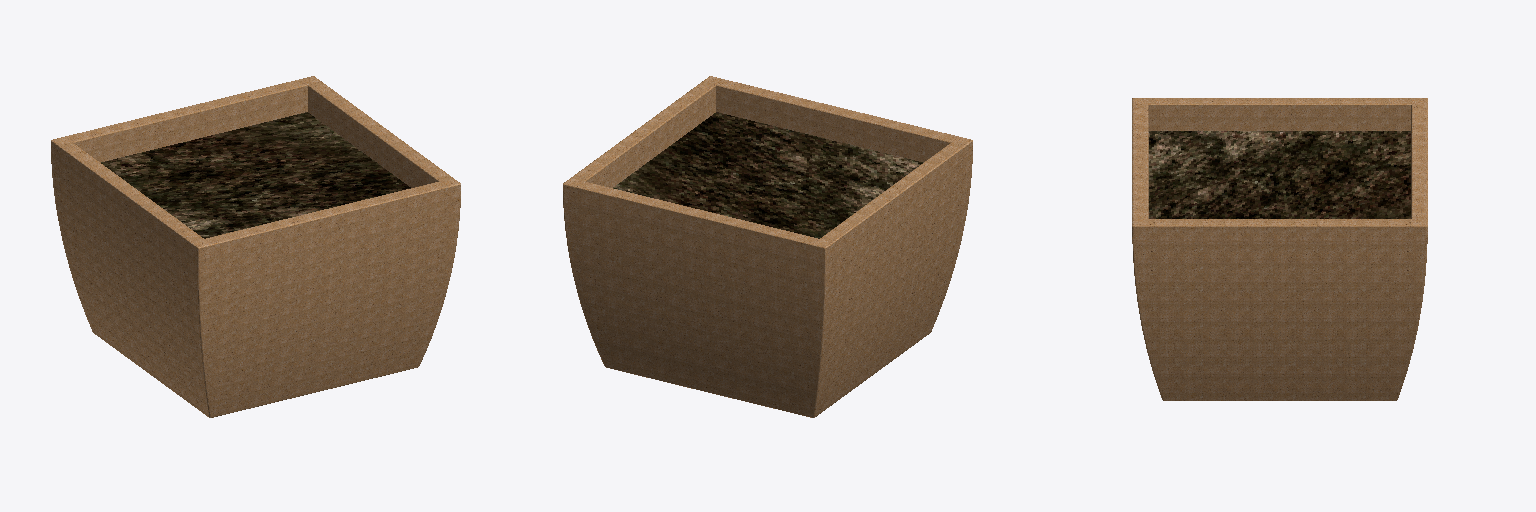
3 renders of one model, left to right at view 1: azimuth 30°, elevation 25°; view 2: azimuth 150°, elevation 25°; view 3: azimuth 270°, elevation 25°, orthographic.
Visible parts, largest first — view 1: obj1, obj2; view 2: obj1, obj2; view 3: obj1, obj2.
Boxes of the visible parts, x1,y1,x2,y2 form: obj1: [51, 76, 460, 417]; obj2: [101, 112, 410, 238]; obj1: [563, 76, 972, 417]; obj2: [613, 112, 922, 238]; obj1: [1132, 98, 1427, 400]; obj2: [1149, 131, 1410, 218].
Bounding box in the file's own units: 3.82 × 2.61 × 3.71.
Materials: 2 (2 with a texture image).